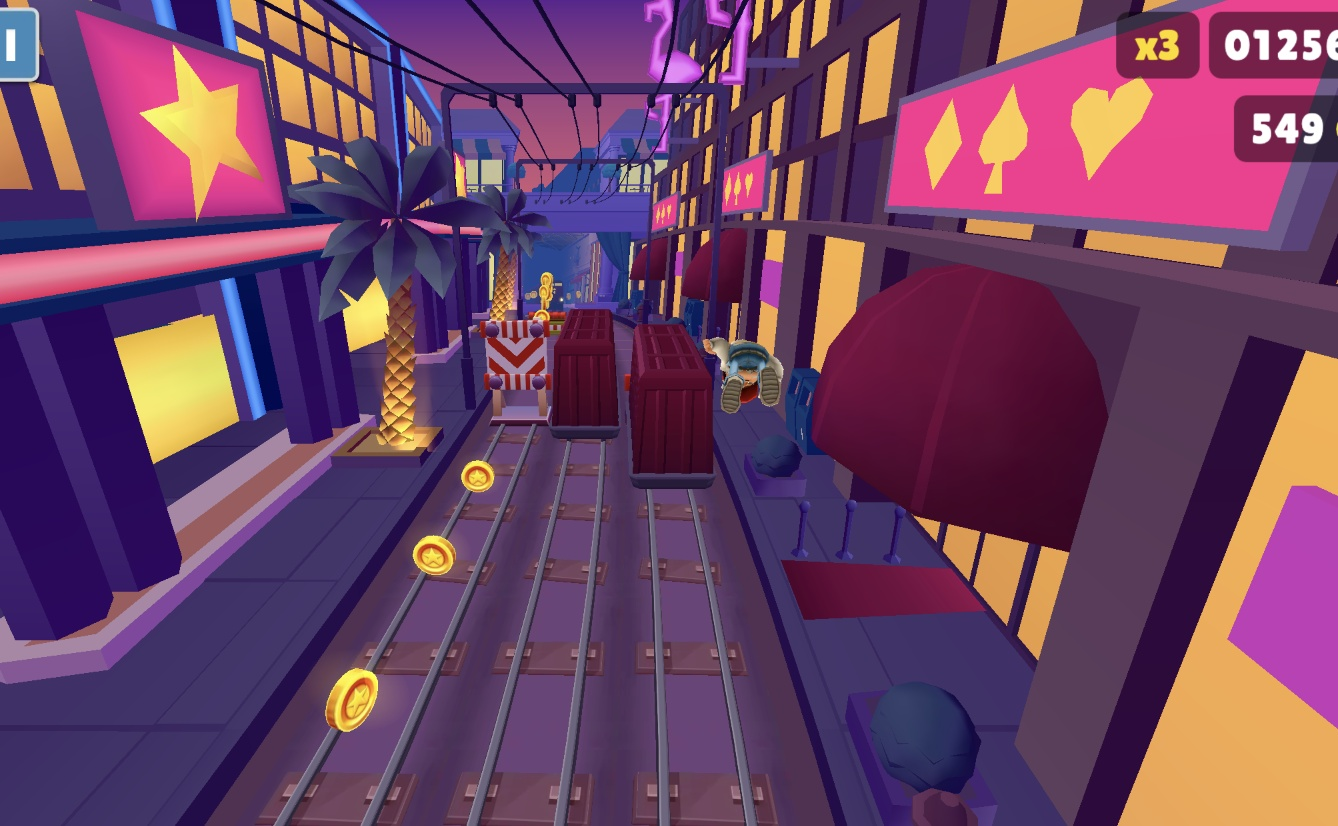overhead_barrier: (474, 309, 557, 427)
train: (632, 322, 714, 484), (544, 312, 624, 444)
